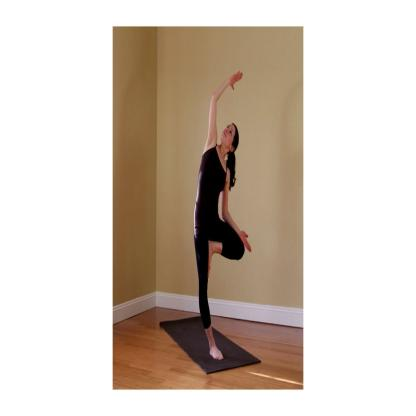tree: (186, 67, 254, 371)
